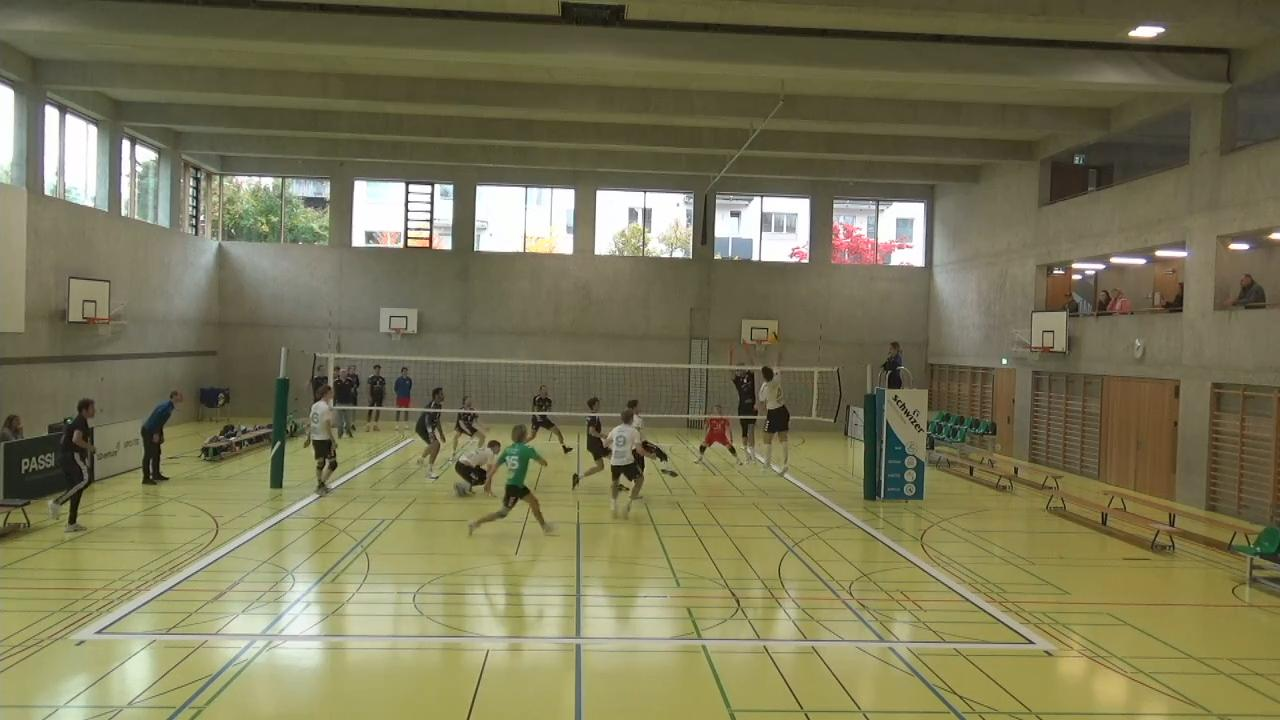attacco: (756, 346, 796, 478)
muro: (727, 335, 765, 471)
